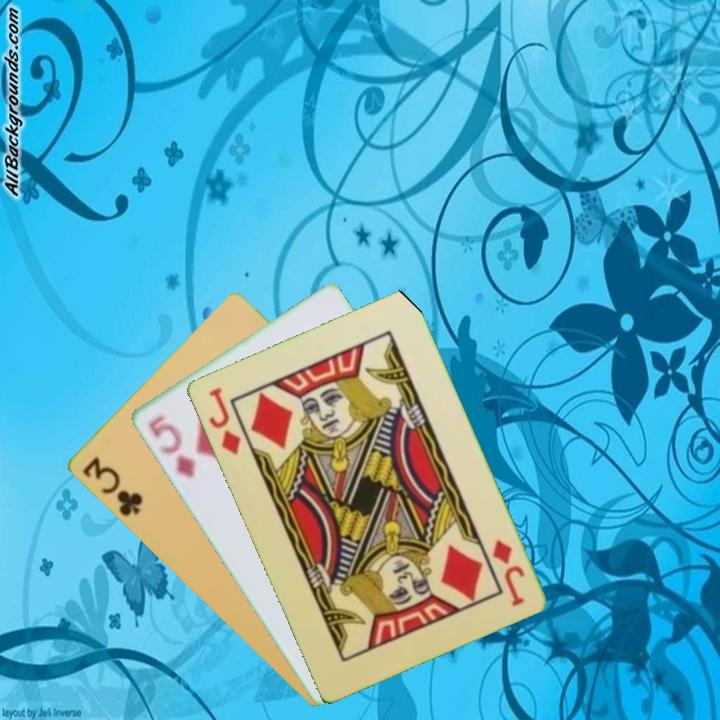3c: (78, 453, 146, 519)
5d: (144, 410, 198, 481)
Jd: (204, 383, 244, 458), (488, 535, 528, 610)
